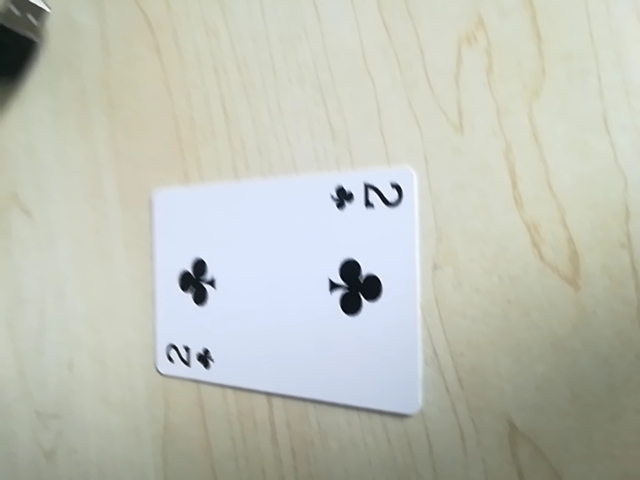mh 2: (328, 174, 409, 216), (157, 333, 221, 376)
